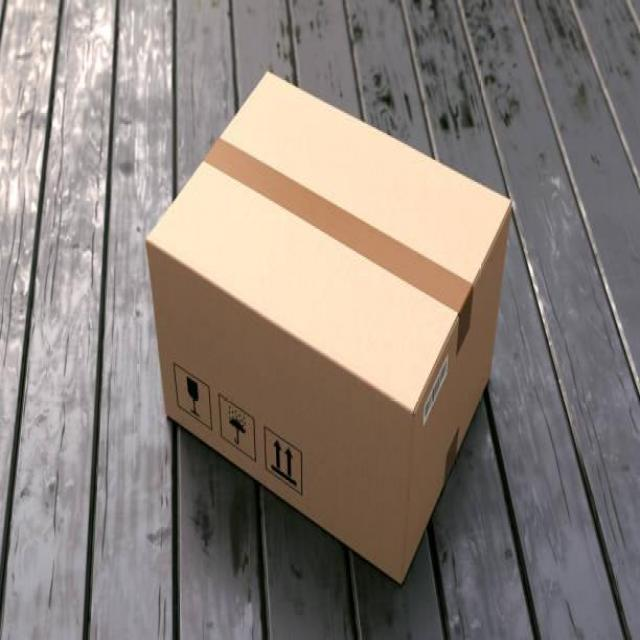box: (148, 63, 514, 584)
